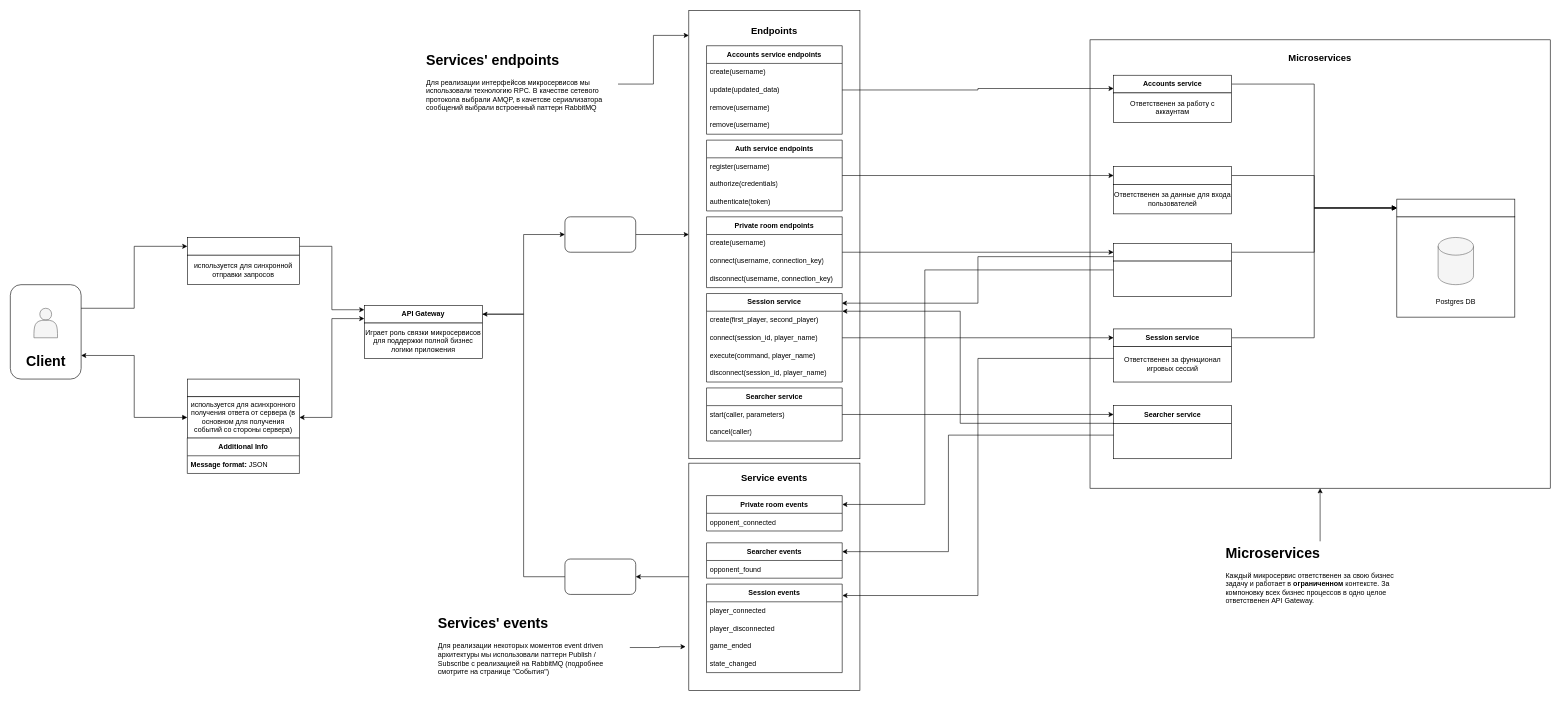
Some shapes in this 1561 by 701 pixel diagram are drawn without their labels. Each missing label, with the centre of its shape:
Auth service: the point at 1172,175
DB Service: the point at 1455,208
HTTP/REST: the point at 243,246
JSON: the point at 600,576
Private room service: the point at 1172,252
RPC / JSON: the point at 600,234
WebSocket: the point at 243,387
Ответственен за функционал автопоиска соперника: the point at 1172,441
Ответственен за функционал приватных комнат: the point at 1172,278
